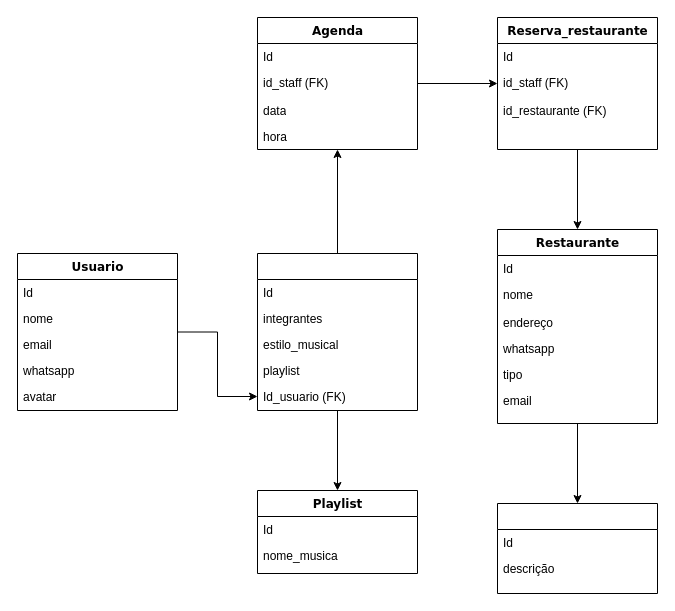
This 675x611 diagram has some shape labels left out. Here are the shapes that lost their labels. From the top down, the box of each, then its label:
(256, 252, 418, 410): Staff
(496, 502, 658, 594): Pratos_do_dia
